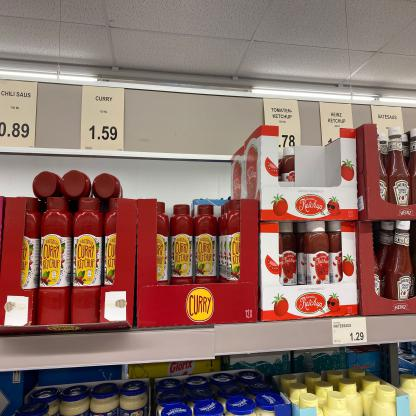prtg: (82, 87, 125, 153), (1, 80, 39, 149), (264, 100, 302, 153), (333, 318, 368, 345)
